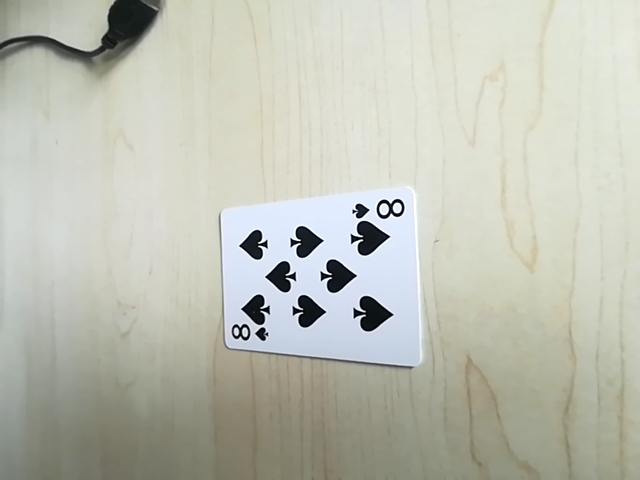ht 8: (352, 193, 411, 222), (222, 318, 271, 350)
